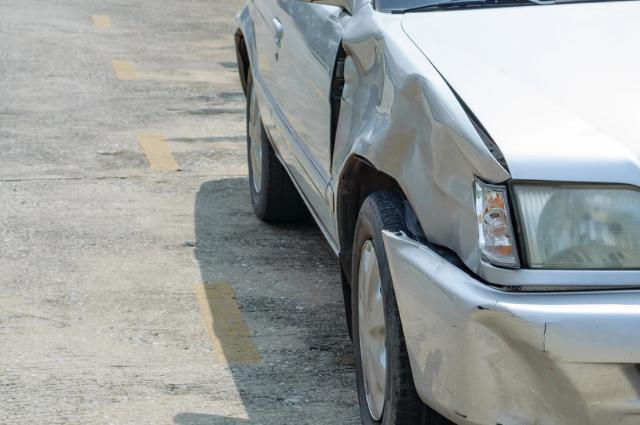Bumper: (386, 229, 640, 425)
Door: (314, 8, 356, 258)
Fender: (332, 20, 505, 261)
